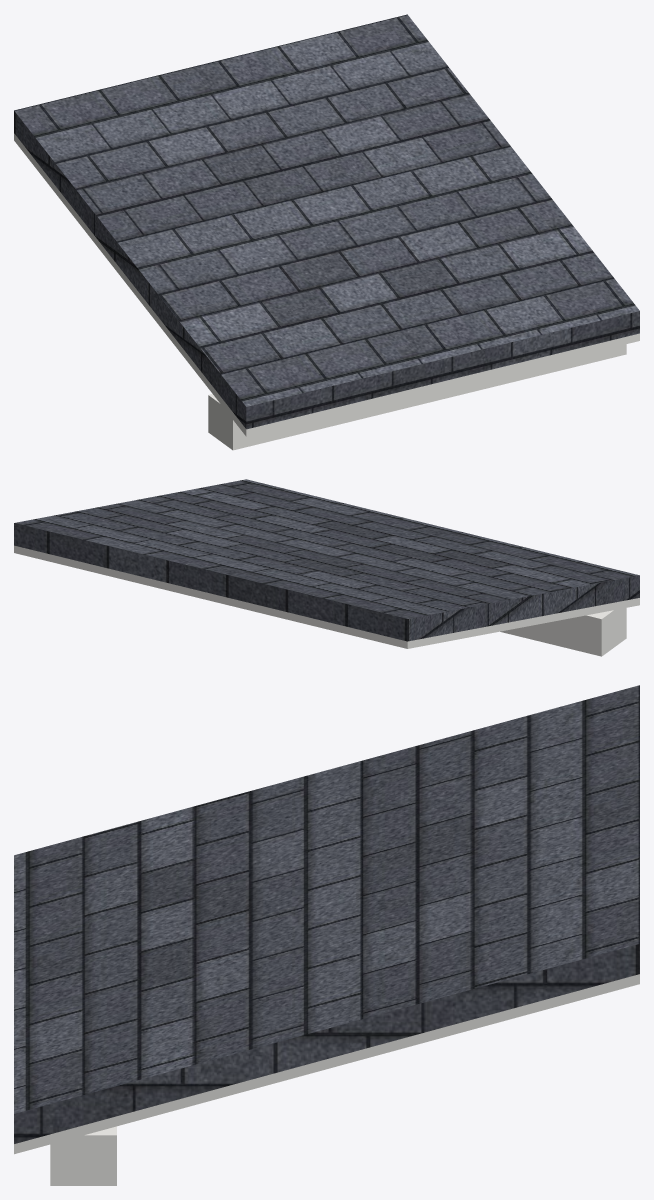
File: porch_roof_end.glb
The picture shows the model from 3 angles, top to bottom: view 1: azimuth 30°, elevation 25°; view 2: azimuth 150°, elevation 25°; view 3: azimuth 270°, elevation 25°; orthographic projection. The views are drawn at different scales.
Visible parts, largest first — view 1: porch_roof_end_shingles, porch_roof_end_trim; view 2: porch_roof_end_shingles, porch_roof_end_trim; view 3: porch_roof_end_shingles, porch_roof_end_trim.
Boxes of the visible parts, x1,y1,x2,y2 form: porch_roof_end_shingles: [14, 14, 639, 429]; porch_roof_end_trim: [14, 133, 639, 450]; porch_roof_end_shingles: [14, 479, 639, 641]; porch_roof_end_trim: [14, 545, 639, 656]; porch_roof_end_shingles: [14, 685, 639, 1143]; porch_roof_end_trim: [14, 974, 639, 1185].
Bounding box in the file's own units: 2.2 × 0.96 × 2.25.
Materials: 2 (1 with a texture image).
